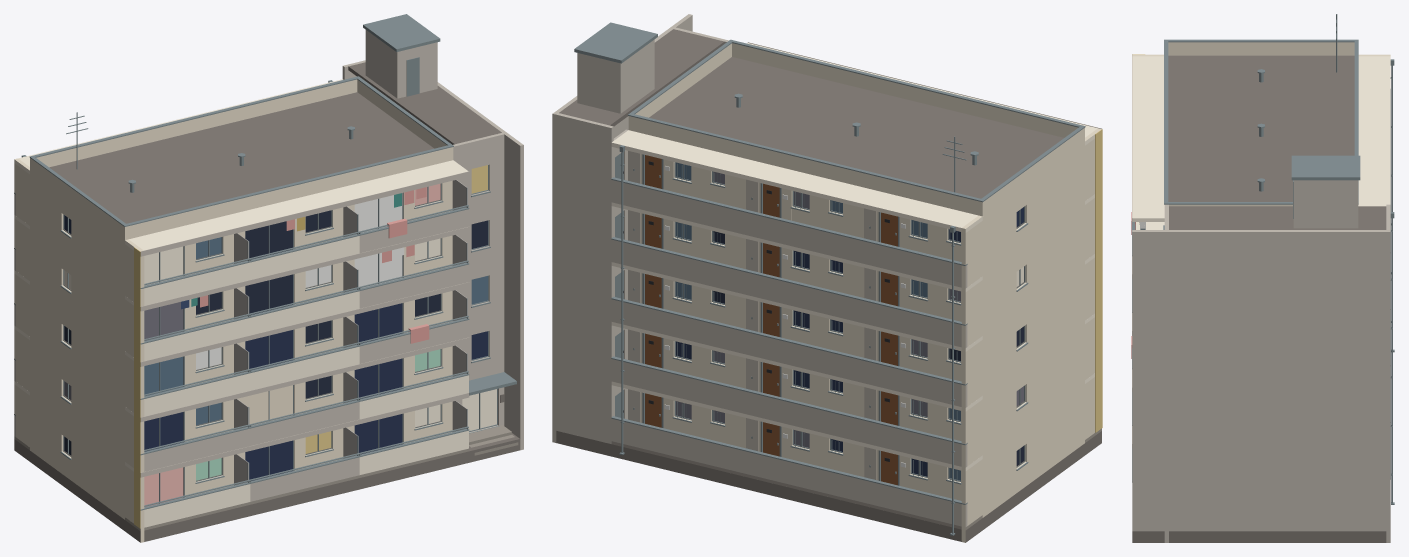
The model's file is tb_mansion_5f_01.fbx.
The picture shows the model from 3 angles, left to right: view 1: azimuth 30°, elevation 25°; view 2: azimuth 150°, elevation 25°; view 3: azimuth 270°, elevation 25°; orthographic projection. The views are drawn at different scales.
Parts seen in each view (by area): view 1: tb_mansion_5f_01; view 2: tb_mansion_5f_01; view 3: tb_mansion_5f_01.
Part boxes in pixels (bbox=[...]): tb_mansion_5f_01: bbox=[14, 14, 523, 542]; tb_mansion_5f_01: bbox=[552, 14, 1102, 542]; tb_mansion_5f_01: bbox=[1131, 14, 1394, 542].
Size of what is drawn, in the model's own units: 21.05 by 18.6 by 12.25.
3 materials, 3 textured.
